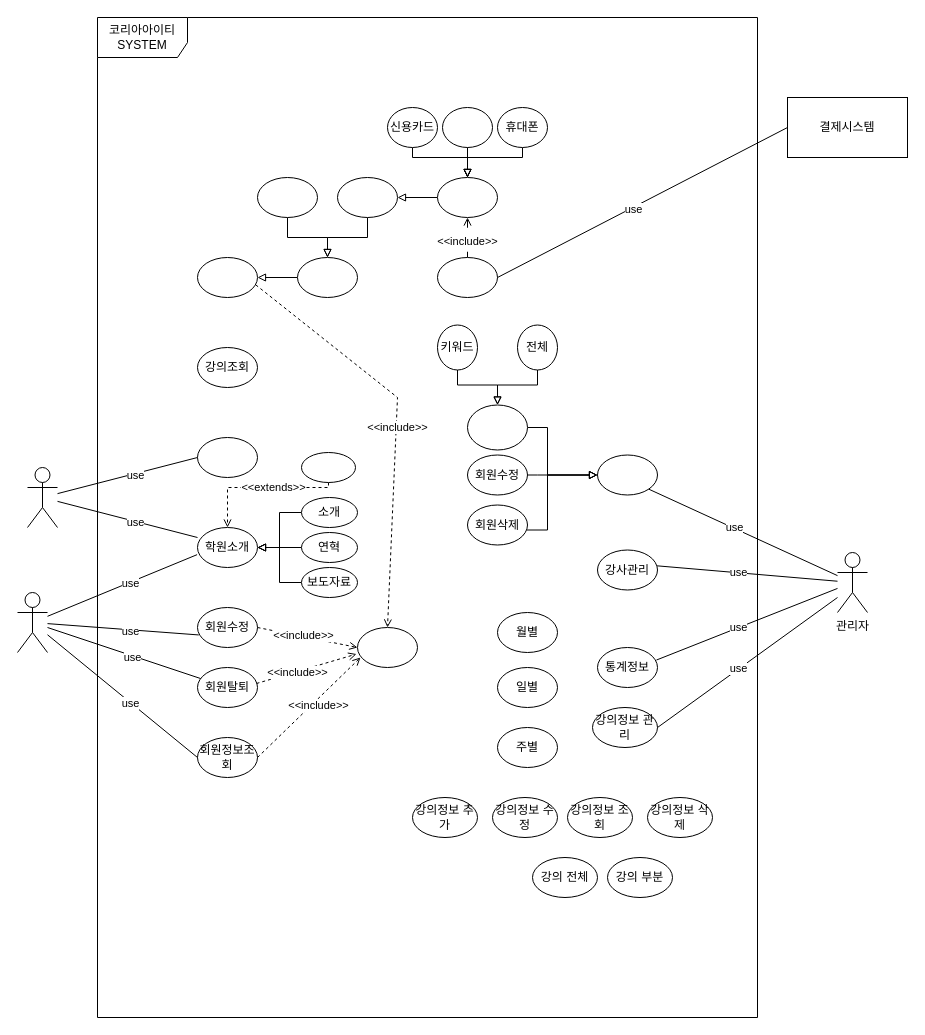
The diagram is 925 pixels wide and 1035 high, and some of its shapes have lost their labels. Each missing label, with the centre of its shape:
강의상세 조회: the point at 327,277
결제 요청: the point at 367,197
결제 정보 확인: the point at 467,277
결제방식: the point at 467,197
로그인: the point at 387,647
무통장: the point at 467,127
비회원: the point at 42,497
수강료 조회: the point at 328,467
수강신청: the point at 227,277
장바구니: the point at 287,197
회원: the point at 32,622
회원가입: the point at 227,457
회원관리: the point at 627,474
회원조회: the point at 497,427
